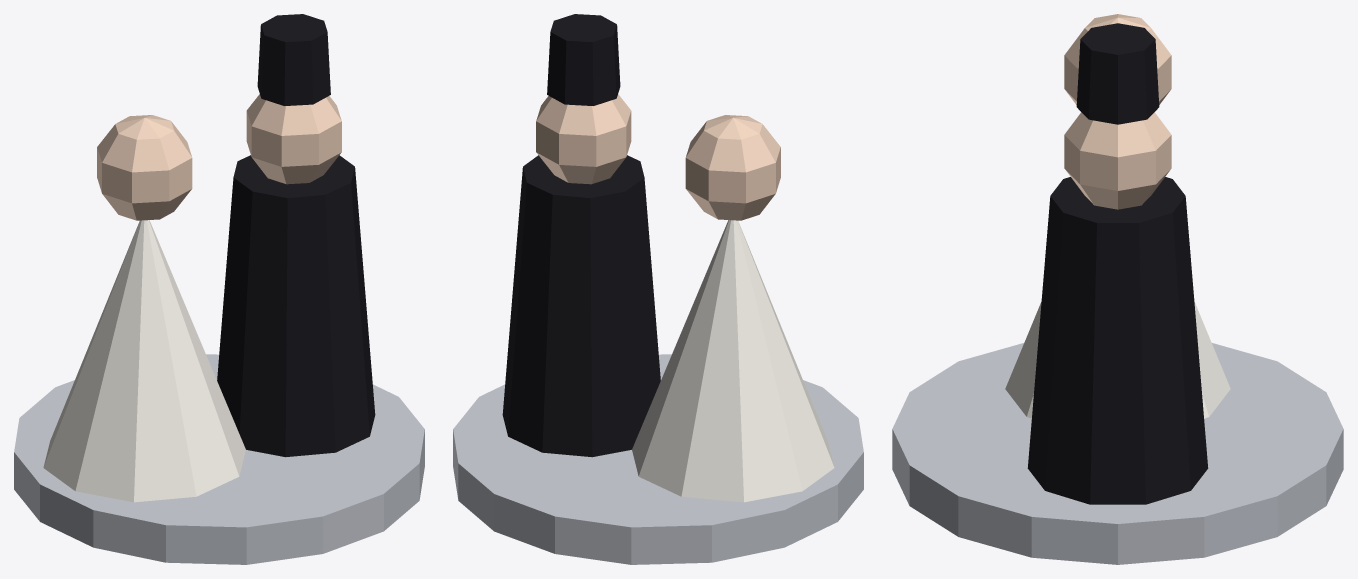
The model's file is sugar_couple.glb.
The picture shows the model from 3 angles, left to right: view 1: azimuth 30°, elevation 25°; view 2: azimuth 150°, elevation 25°; view 3: azimuth 270°, elevation 25°; orthographic projection. The views are drawn at different scales.
Parts seen in each view (by area): view 1: groom_tux_black, base_wedding_cake_stand, bride_sugar, bride_sugar_skin, groom_sugar_skin; view 2: groom_tux_black, base_wedding_cake_stand, bride_sugar, bride_sugar_skin, groom_sugar_skin; view 3: groom_tux_black, base_wedding_cake_stand, groom_sugar_skin, bride_sugar, bride_sugar_skin.
Part boxes in pixels (x1,y1,x2,y2): groom_tux_black: (217,14,375,457); base_wedding_cake_stand: (14,354,424,564); bride_sugar: (43,220,245,502); bride_sugar_skin: (97,115,192,220); groom_sugar_skin: (246,94,341,184); groom_tux_black: (502,14,660,457); base_wedding_cake_stand: (453,354,863,564); bride_sugar: (632,220,834,502); bride_sugar_skin: (685,115,780,220); groom_sugar_skin: (536,94,631,184); groom_tux_black: (1027,23,1208,504); base_wedding_cake_stand: (892,343,1343,564); groom_sugar_skin: (1064,112,1171,209); bride_sugar: (1005,301,1230,418); bride_sugar_skin: (1064,14,1171,104).
Bounding box in the file's own units: 0.12 × 0.138 × 0.12.
